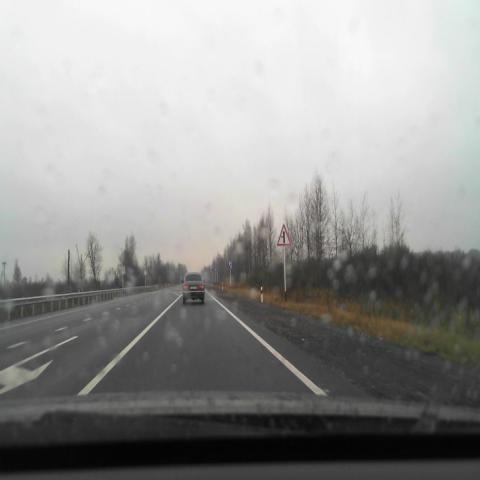2_3_3: (277, 224, 291, 246)
